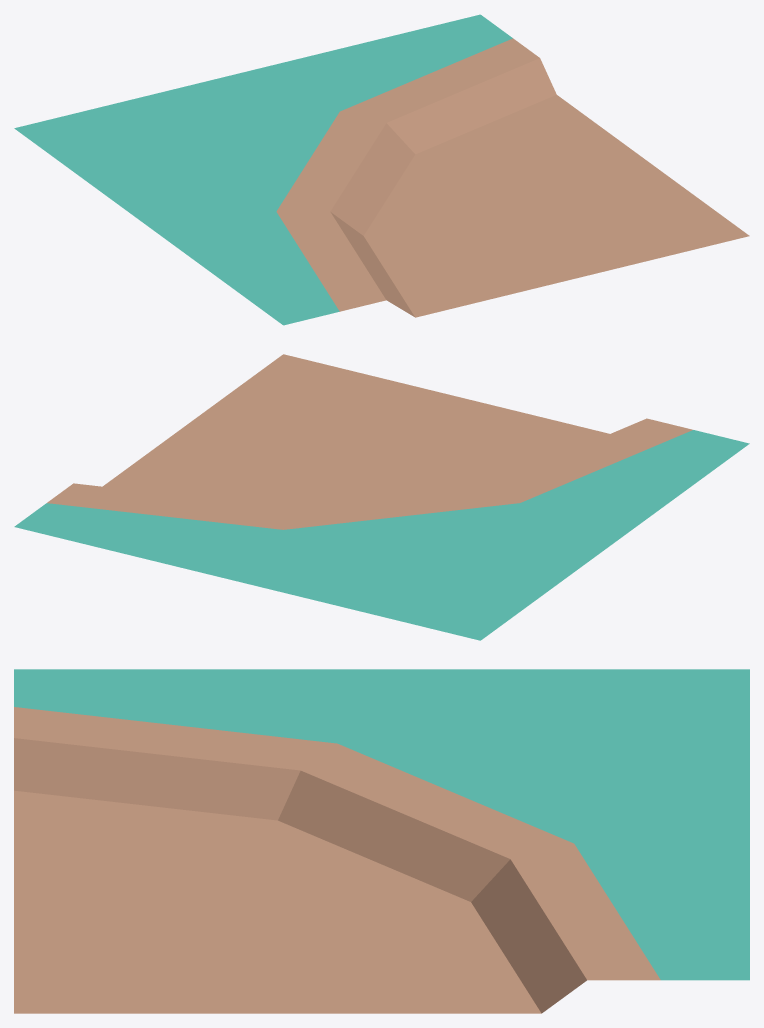
The model's file is ground_pathCorner.glb.
3 renders of one model, top to bottom at view 1: azimuth 30°, elevation 25°; view 2: azimuth 150°, elevation 25°; view 3: azimuth 270°, elevation 25°, orthographic. The views are drawn at different scales.
Visible parts, largest first — view 1: ground_pathCorner; view 2: ground_pathCorner; view 3: ground_pathCorner.
Part boxes in pixels (x1,y1,x2,y2): ground_pathCorner: [14, 14, 749, 325]; ground_pathCorner: [14, 354, 749, 640]; ground_pathCorner: [14, 669, 749, 1013].
Bounding box in the file's own units: 1 × 0.05 × 1.
